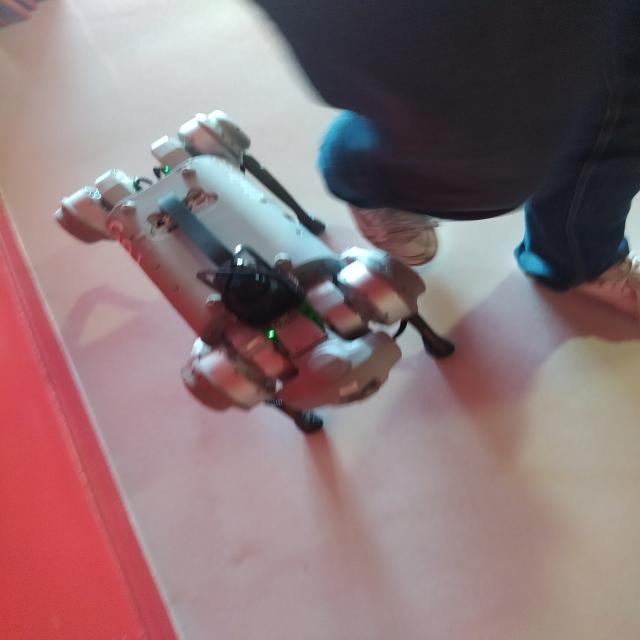unitree-go1-robot: (46, 105, 470, 440)
